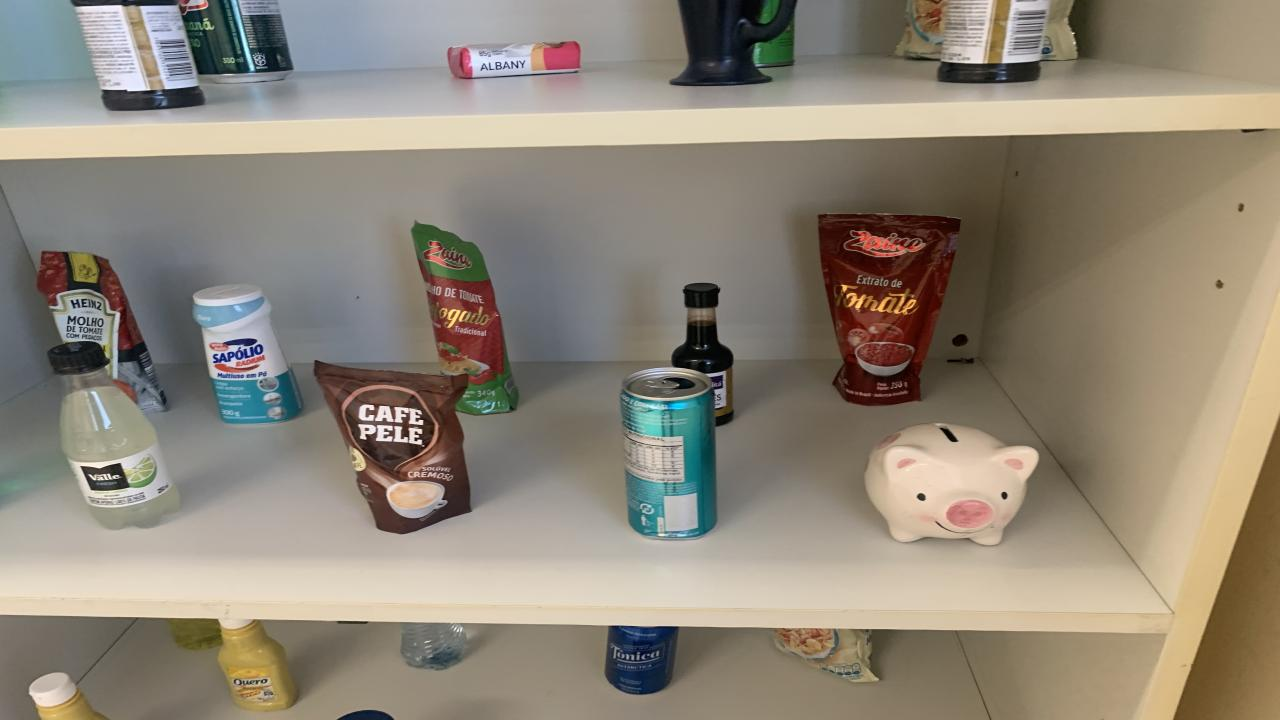Cleaner-Cleanup_Items: (192, 285, 302, 424)
Coffee-Pantry_Items: (315, 362, 470, 534)
Detergent-Cleanup_Items: (168, 619, 222, 651)
English_Sauce-Pantry_Items: (72, 0, 202, 109), (938, 0, 1050, 82), (672, 283, 732, 426)
Flakes-Snacks: (775, 628, 878, 682), (895, 0, 948, 60), (1042, 0, 1078, 60)
Guarana_Can-Drinks: (180, 0, 292, 82)
Mustard-Pantry_Items: (218, 619, 298, 711), (30, 673, 108, 720)
Pig_Safe-Miscellaneous: (865, 424, 1038, 546)
Pringles-Snacks: (752, 21, 795, 68), (760, 0, 780, 24)
Soap-Cleanup_Items: (448, 41, 580, 79)
Soda-Drinks: (48, 341, 180, 529)
Tea-Drinks: (620, 368, 718, 538)
Tomato_Sauce-Pantry_Items: (818, 214, 960, 405), (38, 251, 168, 412), (412, 223, 518, 414)
Tonic-Drinks: (605, 626, 678, 694)
Water_Bottle-Drinks: (400, 622, 468, 669)
